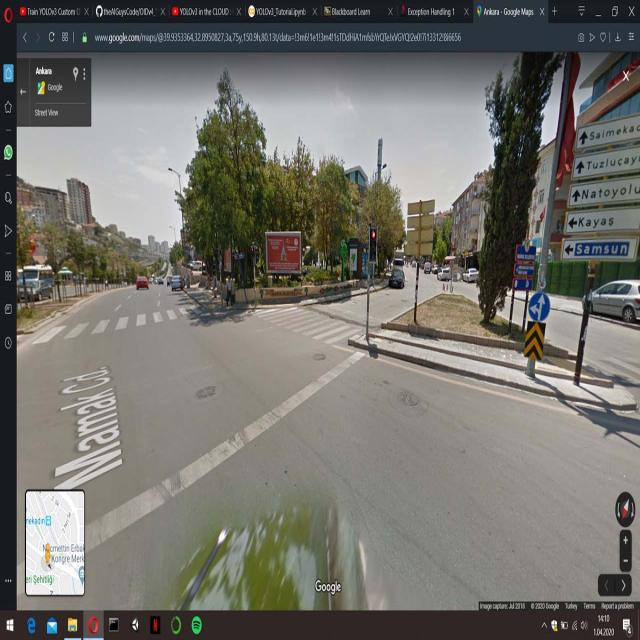ilerisol: (530, 292, 549, 324)
kirmizi: (368, 227, 377, 261)
